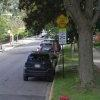Car: (21, 40, 61, 84)
